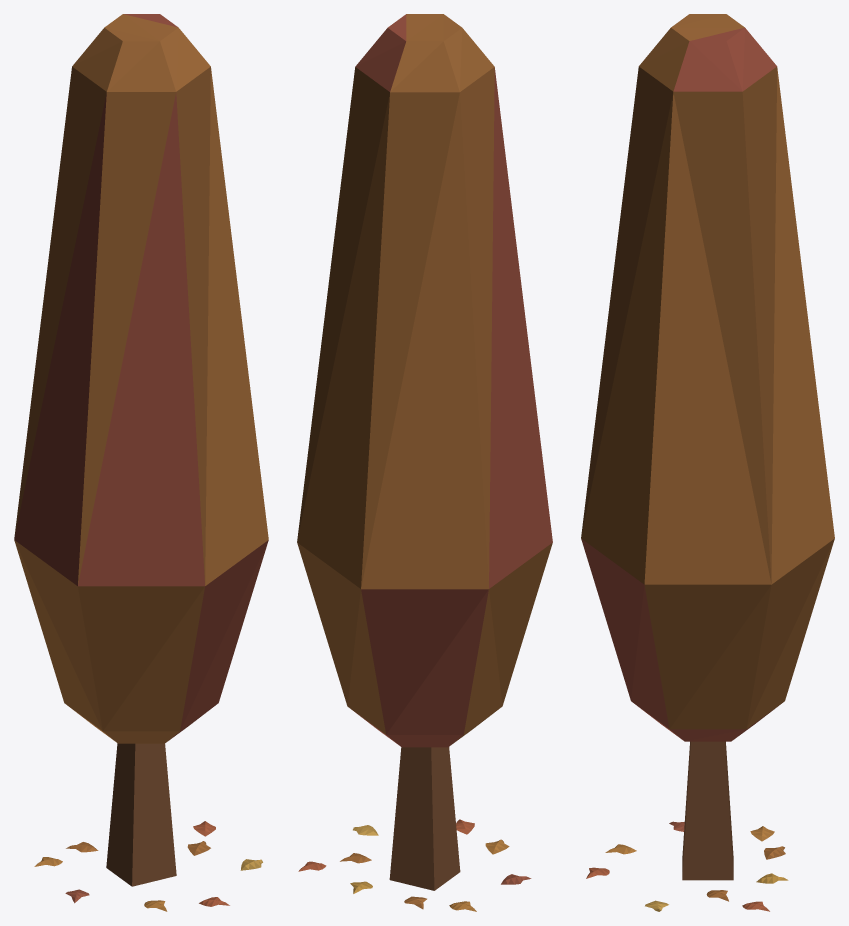
The model's file is tree_tall_autumn.glb.
The picture shows the model from 3 angles, left to right: view 1: azimuth 30°, elevation 25°; view 2: azimuth 150°, elevation 25°; view 3: azimuth 270°, elevation 25°; orthographic projection.
Parts seen in each view (by area): view 1: geometry; view 2: geometry; view 3: geometry.
Boxes of the visible parts, x1=… form: geometry: x1=14, y1=14, x2=268, y2=911; geometry: x1=297, y1=14, x2=552, y2=911; geometry: x1=581, y1=14, x2=834, y2=911.
Bounding box in the file's own units: 0.3996 × 1.69 × 0.4614.
